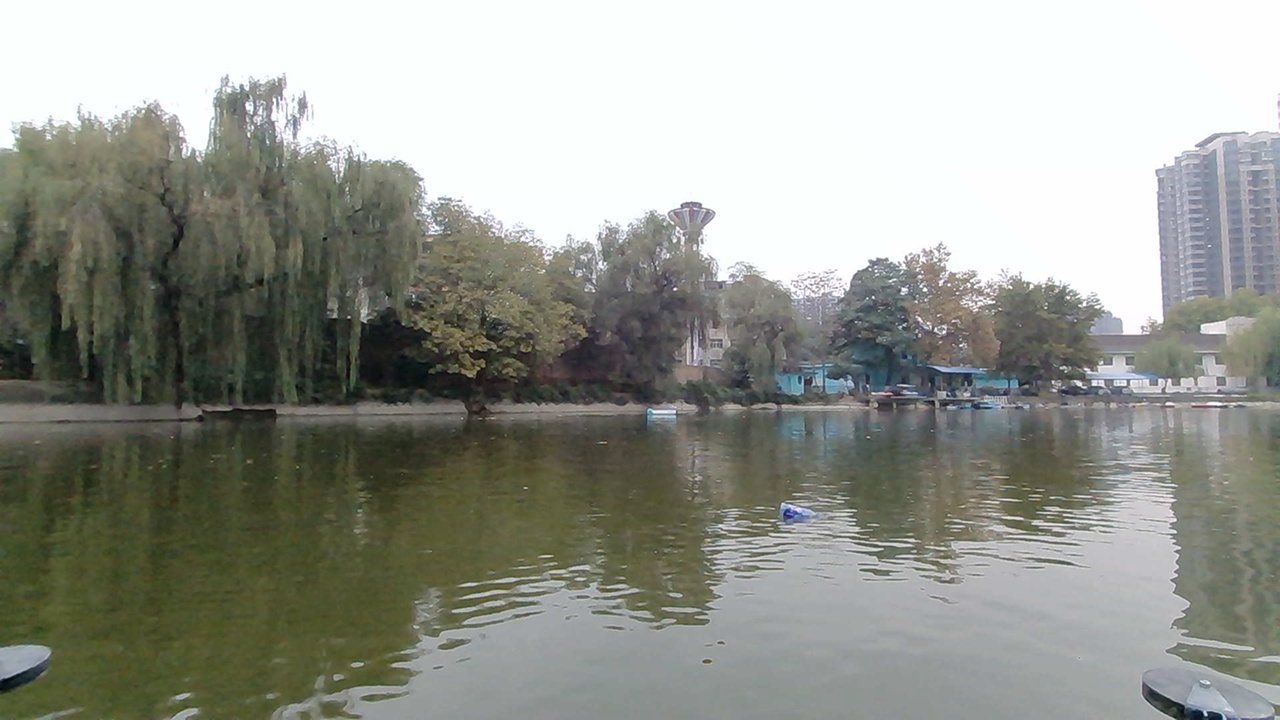bottle: (776, 499, 821, 533)
